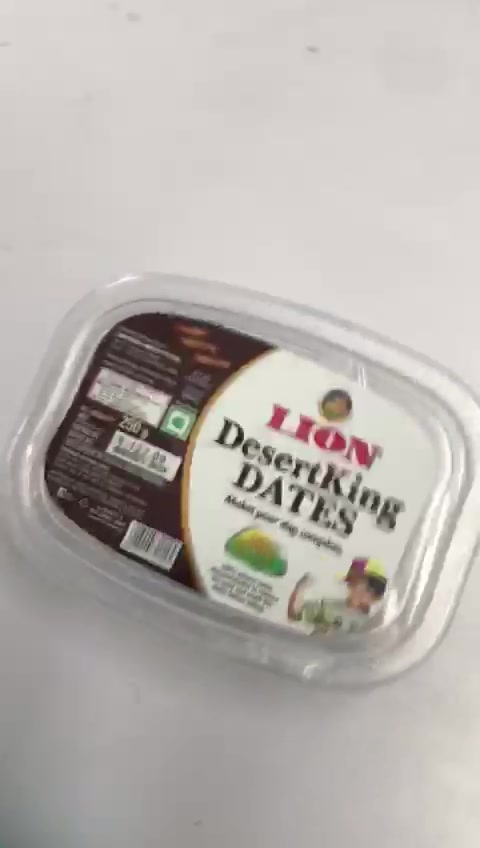Lion dates: (4, 258, 480, 688)
